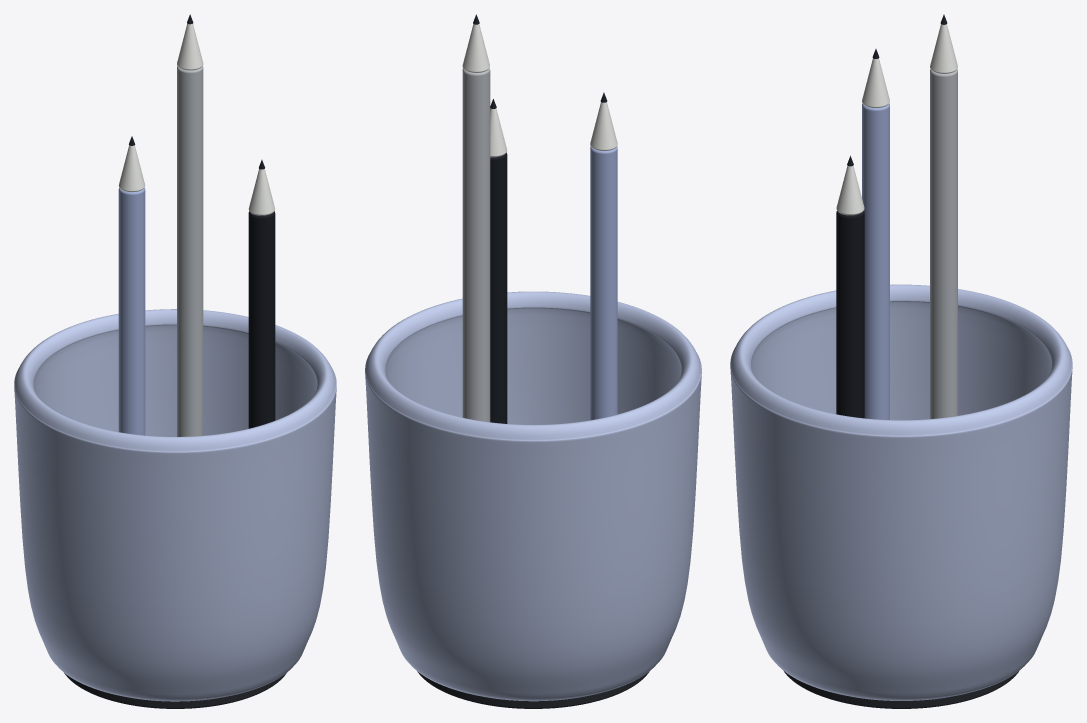
File: pencil-cup.glb
The picture shows the model from 3 angles, left to right: view 1: azimuth 30°, elevation 25°; view 2: azimuth 150°, elevation 25°; view 3: azimuth 270°, elevation 25°; orthographic projection. The views are drawn at different scales.
Parts seen in each view (by area): view 1: hollow-vessel-with-rolled-lip, continuous-pencil-barrel (×3), glazed-cup-002, mechanical-pencil-008, fineliner-012, colored-pencil-004; view 2: hollow-vessel-with-rolled-lip, continuous-pencil-barrel (×3), glazed-cup-002, colored-pencil-004, mechanical-pencil-008, fineliner-012; view 3: hollow-vessel-with-rolled-lip, continuous-pencil-barrel (×3), glazed-cup-002, fineliner-012, mechanical-pencil-008, colored-pencil-004.
Part boxes in pixels (x1=…): hollow-vessel-with-rolled-lip: x1=14, y1=309, x2=336, y2=701; continuous-pencil-barrel (×3): x1=118, y1=66, x2=275, y2=436; glazed-cup-002: x1=64, y1=673, x2=286, y2=708; mechanical-pencil-008: x1=177, y1=23, x2=203, y2=70; fineliner-012: x1=248, y1=169, x2=274, y2=215; colored-pencil-004: x1=118, y1=145, x2=145, y2=192; hollow-vessel-with-rolled-lip: x1=365, y1=291, x2=701, y2=701; continuous-pencil-barrel (×3): x1=462, y1=68, x2=617, y2=423; glazed-cup-002: x1=417, y1=671, x2=649, y2=708; colored-pencil-004: x1=590, y1=102, x2=617, y2=150; mechanical-pencil-008: x1=462, y1=24, x2=489, y2=72; fineliner-012: x1=490, y1=108, x2=507, y2=157; hollow-vessel-with-rolled-lip: x1=730, y1=284, x2=1072, y2=700; continuous-pencil-barrel (×3): x1=836, y1=69, x2=957, y2=419; glazed-cup-002: x1=784, y1=671, x2=1018, y2=708; fineliner-012: x1=836, y1=165, x2=864, y2=215; mechanical-pencil-008: x1=930, y1=24, x2=957, y2=73; colored-pencil-004: x1=862, y1=58, x2=889, y2=107.
Bounding box in the file's own units: 0.9379 × 2 × 0.9379.
